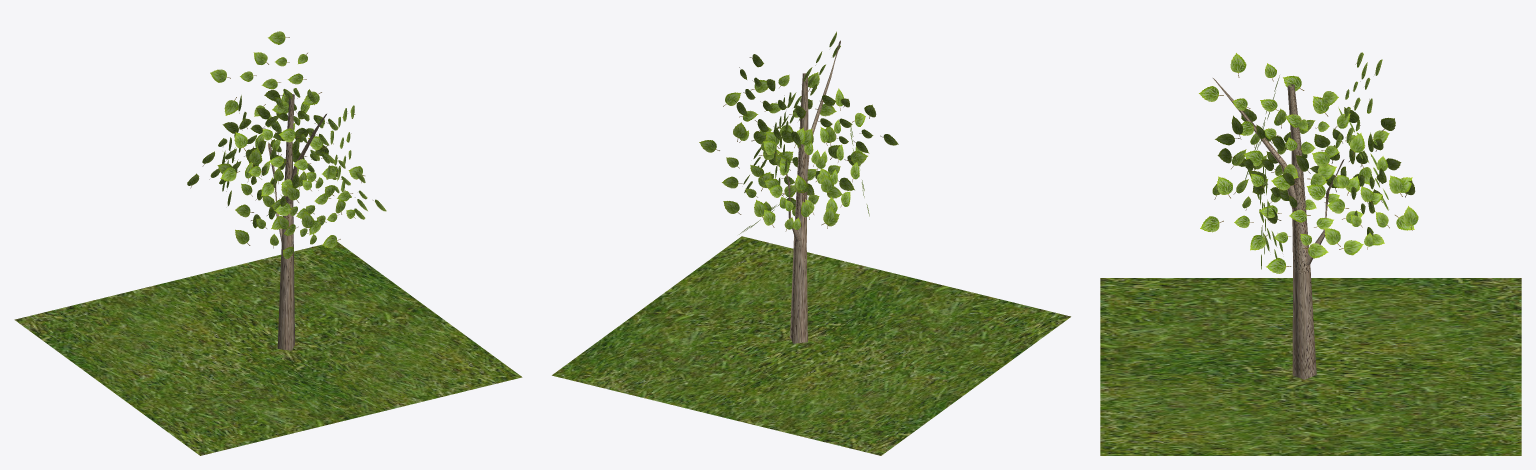
The model's file is tree.fbx.
3 renders of one model, left to right at view 1: azimuth 30°, elevation 25°; view 2: azimuth 150°, elevation 25°; view 3: azimuth 270°, elevation 25°, orthographic. The views are drawn at different scales.
Visible parts, largest first — view 1: pPlane4, extrudedSurface1, pasted__pasted__pasted__pasted__pasted__pasted__pPlane5, pasted__pasted__pPlane6, pasted__pasted__pPlane5, pasted__pasted__pasted__pasted__pasted__pasted__pasted__pPla (×2), pasted__pasted__pasted__pPlane6, pasted__pPlane5, pasted__pasted__pasted__pasted__pPlane5, pasted__pasted__pasted__pPlane5, pasted__pasted__pasted__pasted__pPlane6; view 2: pPlane4, extrudedSurface1, pasted__pasted__pasted__pasted__pasted__pasted__pasted__pPla (×2), pasted__pasted__pasted__pasted__pasted__pasted__pasted__past (×2), pasted__pasted__pasted__pasted__pasted__pPlane5, pasted__pasted__pasted__pasted__pPlane5, pasted__pasted__pPlane6, pasted__pasted__pasted__pasted__pasted__pasted__pPlane5, pasted__pasted__pasted__pPlane6; view 3: pPlane4, extrudedSurface1, pasted__pasted__pasted__pasted__pPlane6, pasted__pasted__pasted__pasted__pasted__pPlane6, pasted__pasted__pasted__pPlane5, pPlane5, pasted__pasted__pasted__pasted__pasted__pasted__pasted__past (×2), pasted__pPlane5, pasted__pasted__pasted__pasted__pasted__pPlane5, pasted__pasted__pPlane5, pasted__pasted__pasted__pasted__pasted__pasted__pasted__pPla, pasted__pasted__pPlane6 (+1 smaller).
Part boxes in pixels (box(x1,y1,x2,y2)): pPlane4: box(14, 241, 522, 455); extrudedSurface1: box(277, 94, 294, 350); pasted__pasted__pasted__pasted__pasted__pasted__pPlane5: box(220, 128, 325, 215); pasted__pasted__pPlane6: box(210, 31, 321, 116); pasted__pasted__pPlane5: box(217, 147, 314, 248); pasted__pasted__pasted__pasted__pasted__pasted__pasted__pPla (×2): box(187, 115, 300, 228); pasted__pasted__pasted__pPlane6: box(271, 165, 364, 248); pasted__pPlane5: box(222, 90, 328, 163); pasted__pasted__pasted__pasted__pPlane5: box(271, 171, 345, 259); pasted__pasted__pasted__pPlane5: box(275, 88, 338, 163); pasted__pasted__pasted__pasted__pPlane6: box(310, 150, 386, 219); pPlane4: box(552, 236, 1070, 455); extrudedSurface1: box(790, 73, 808, 343); pasted__pasted__pasted__pasted__pasted__pasted__pasted__pPla (×2): box(754, 88, 865, 231); pasted__pasted__pasted__pasted__pasted__pasted__pasted__past (×2): box(699, 122, 837, 232); pasted__pasted__pasted__pasted__pasted__pPlane5: box(723, 72, 836, 159); pasted__pasted__pasted__pasted__pPlane5: box(758, 126, 867, 226); pasted__pasted__pPlane6: box(734, 54, 806, 147); pasted__pasted__pasted__pasted__pasted__pasted__pPlane5: box(800, 95, 898, 165); pasted__pasted__pasted__pPlane6: box(751, 130, 854, 209); pPlane4: box(1100, 278, 1521, 455); extrudedSurface1: box(1287, 84, 1316, 379); pasted__pasted__pasted__pasted__pPlane6: box(1200, 174, 1327, 273); pasted__pasted__pasted__pasted__pasted__pPlane6: box(1312, 133, 1418, 249); pasted__pasted__pasted__pPlane5: box(1199, 53, 1328, 166); pPlane5: box(1303, 164, 1414, 258); pasted__pasted__pasted__pasted__pasted__pasted__pasted__past (×2): box(1326, 107, 1415, 236); pasted__pPlane5: box(1282, 91, 1389, 188); pasted__pasted__pasted__pasted__pasted__pPlane5: box(1217, 115, 1310, 223); pasted__pasted__pPlane5: box(1212, 108, 1315, 210); pasted__pasted__pasted__pasted__pasted__pasted__pasted__pPla: box(1215, 108, 1330, 200); pasted__pasted__pPlane6: box(1335, 52, 1382, 148).
Size of the model in its own units: 10 by 9.2 by 10.
16 materials, 16 textured.
